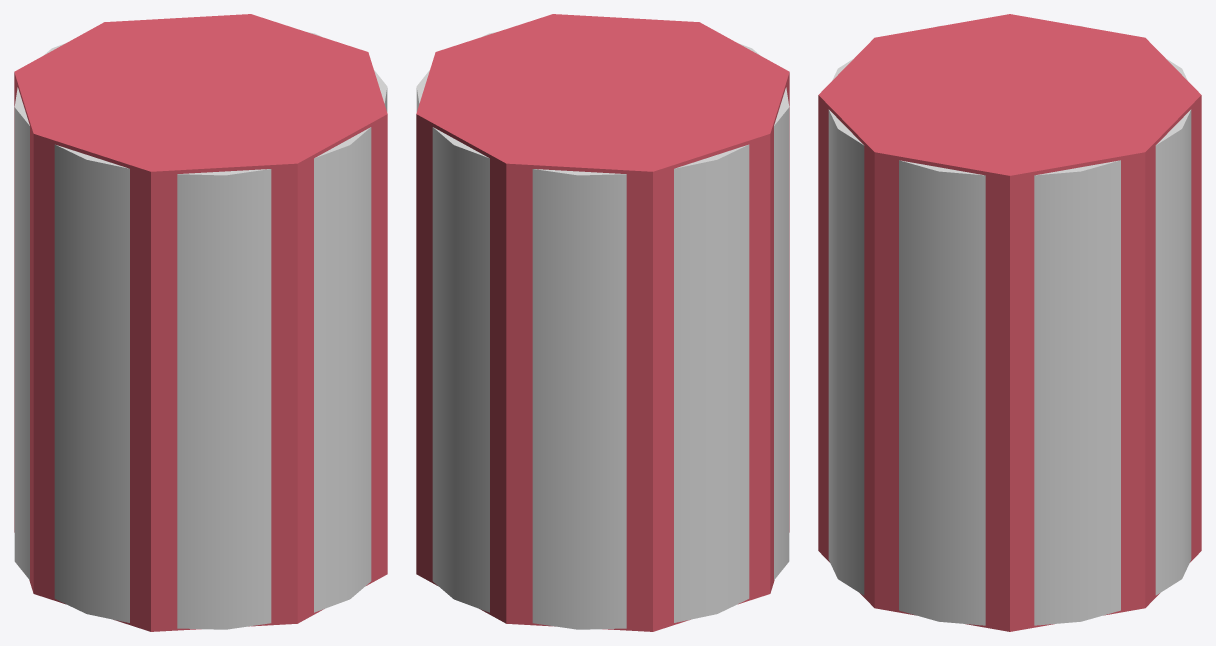
The model's file is spiderglass.fbx.
3 renders of one model, left to right at view 1: azimuth 30°, elevation 25°; view 2: azimuth 150°, elevation 25°; view 3: azimuth 270°, elevation 25°, orthographic.
Parts seen in each view (by area): view 1: SM_cup, c.cup.010; view 2: SM_cup, c.cup.010; view 3: SM_cup, c.cup.010.
Boxes of the visible parts, x1,y1,x2,y2 form: SM_cup: (14,18,387,629); c.cup.010: (14,14,387,631); SM_cup: (416,18,789,629); c.cup.010: (416,14,789,631); SM_cup: (828,25,1191,625); c.cup.010: (818,14,1201,631).
Bounding box in the file's own units: 38.56 × 50.64 × 38.56.
